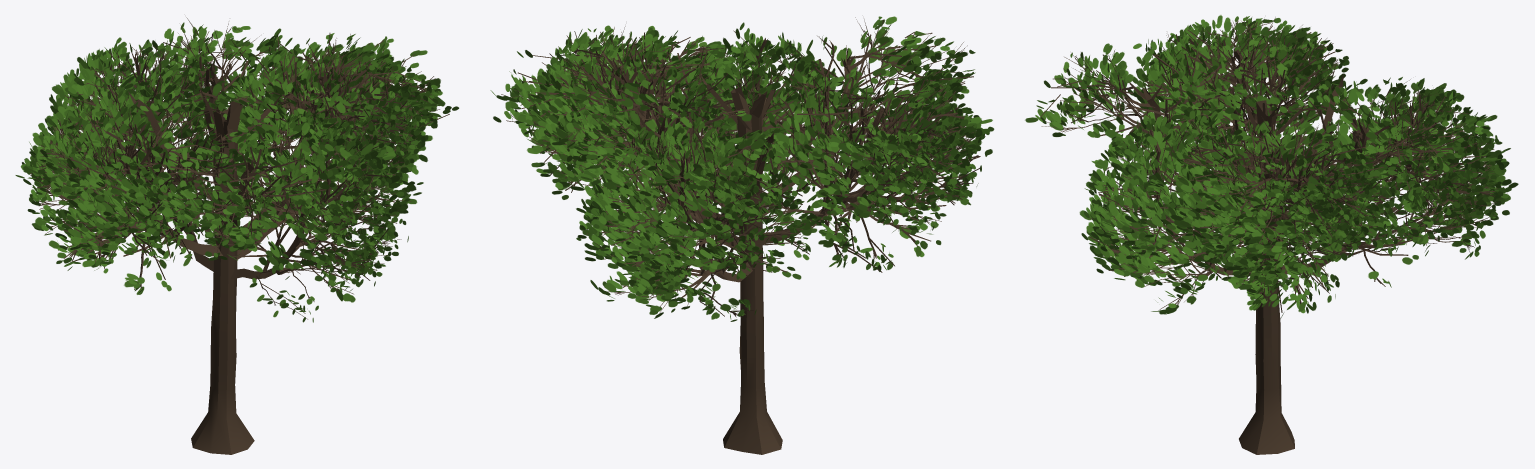
The picture shows the model from 3 angles, left to right: view 1: azimuth 30°, elevation 25°; view 2: azimuth 150°, elevation 25°; view 3: azimuth 270°, elevation 25°; orthographic projection. The views are drawn at different scales.
Parts seen in each view (by area): view 1: oak 01.001_trunk_Mat.001_0.149; view 2: oak 01.001_trunk_Mat.001_0.149; view 3: oak 01.001_trunk_Mat.001_0.149.
Boxes of the visible parts, x1,y1,x2,y2 form: oak 01.001_trunk_Mat.001_0.149: (15,17,459,454); oak 01.001_trunk_Mat.001_0.149: (490,16,994,454); oak 01.001_trunk_Mat.001_0.149: (1025,15,1518,454).
Size of the model in its own units: 4.59 by 3.71 by 4.65.
2 materials, 1 textured.
